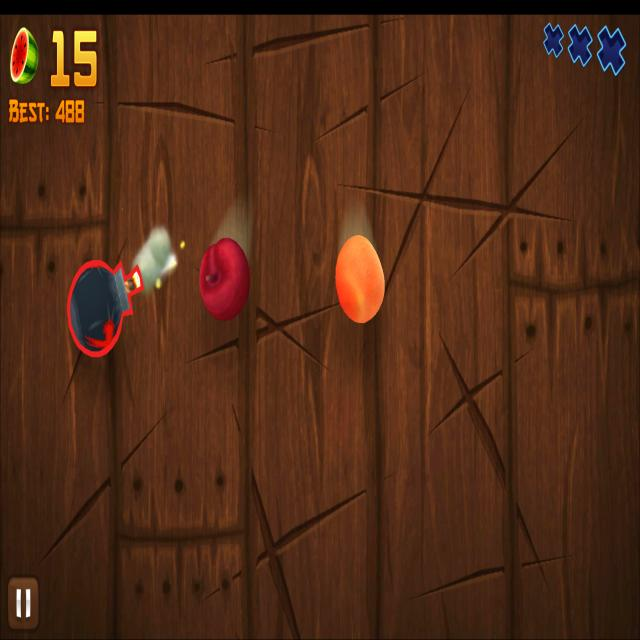bomb: (67, 258, 144, 358)
fruit: (335, 234, 386, 323), (199, 238, 251, 321)
